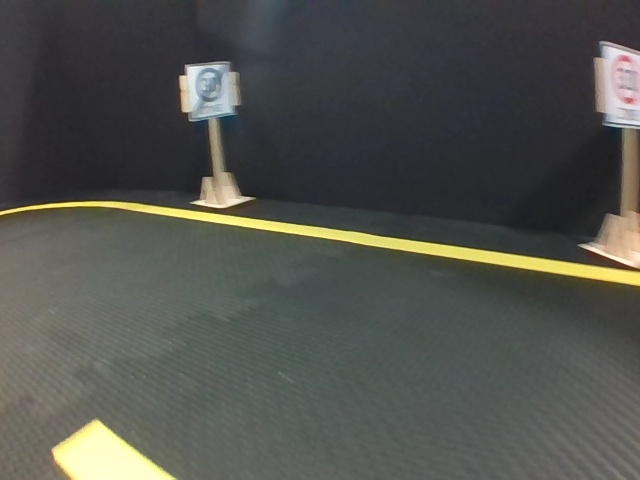30: (602, 45, 640, 125)
no30: (186, 65, 232, 118)
